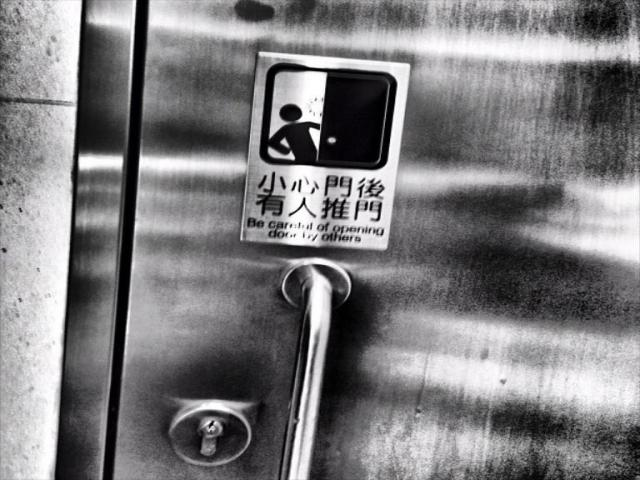Door-handle: (276, 257, 356, 479)
